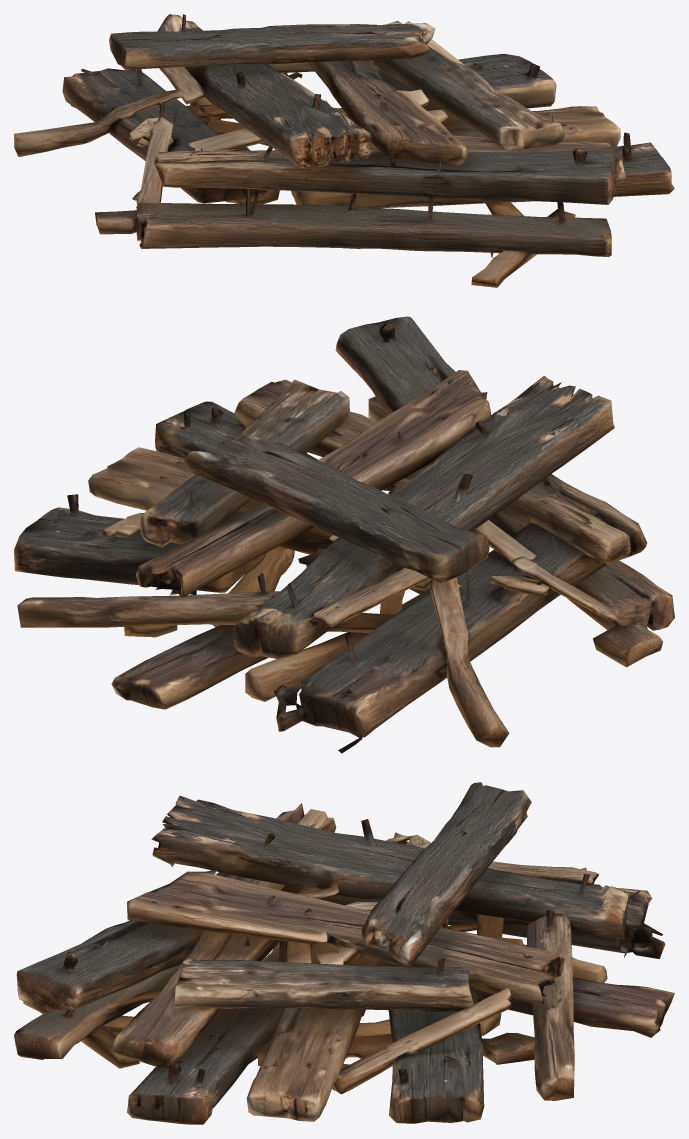
The model's file is wood_planks.glb.
3 renders of one model, top to bottom at view 1: azimuth 30°, elevation 25°; view 2: azimuth 150°, elevation 25°; view 3: azimuth 270°, elevation 25°, orthographic. The views are drawn at different scales.
Visible parts, largest first — view 1: tripo_node_53be3700-1f8b-4785-9c46-bfc532d5d95c; view 2: tripo_node_53be3700-1f8b-4785-9c46-bfc532d5d95c; view 3: tripo_node_53be3700-1f8b-4785-9c46-bfc532d5d95c.
Part boxes in pixels (x1,y1,x2,y2): tripo_node_53be3700-1f8b-4785-9c46-bfc532d5d95c: (14, 14, 674, 287); tripo_node_53be3700-1f8b-4785-9c46-bfc532d5d95c: (14, 316, 674, 753); tripo_node_53be3700-1f8b-4785-9c46-bfc532d5d95c: (14, 782, 674, 1124).
Bounding box in the file's own units: 0.9215 × 0.238 × 1.
1 material, 1 textured.
